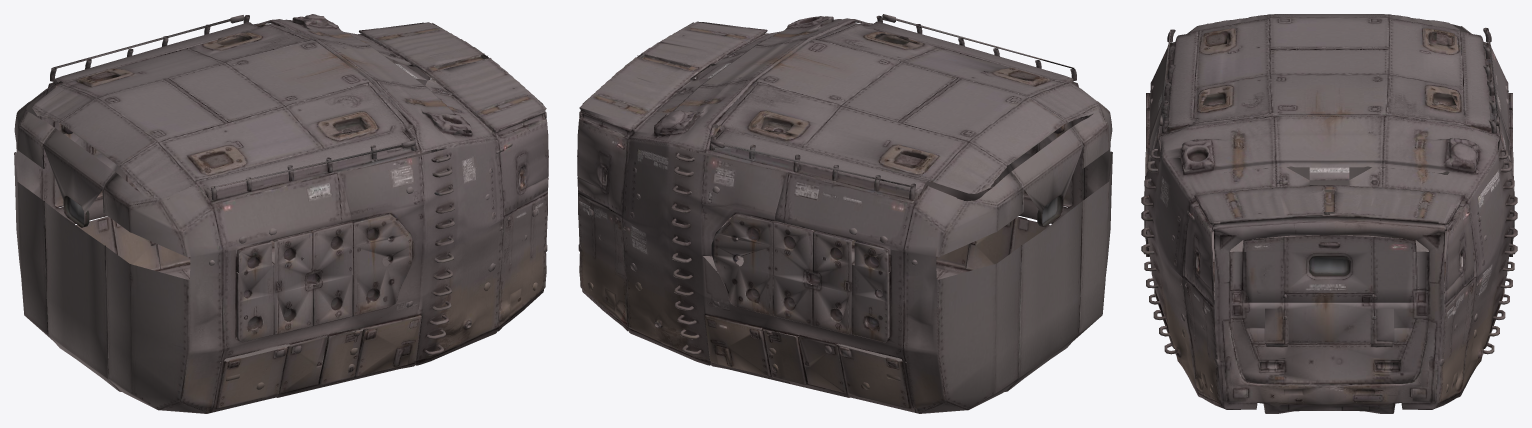
The model's file is sci-fi_cargo_container_3d_model.fbx.
The picture shows the model from 3 angles, left to right: view 1: azimuth 30°, elevation 25°; view 2: azimuth 150°, elevation 25°; view 3: azimuth 270°, elevation 25°; orthographic projection.
Visible parts, largest first — view 1: meshes[0]; view 2: meshes[0]; view 3: meshes[0].
Part boxes in pixels (x1,y1,x2,y2): meshes[0]: [14, 14, 548, 413]; meshes[0]: [577, 14, 1112, 413]; meshes[0]: [1141, 14, 1517, 413].
Size of the model in its own units: 0.9766 by 0.5859 by 0.7755.
